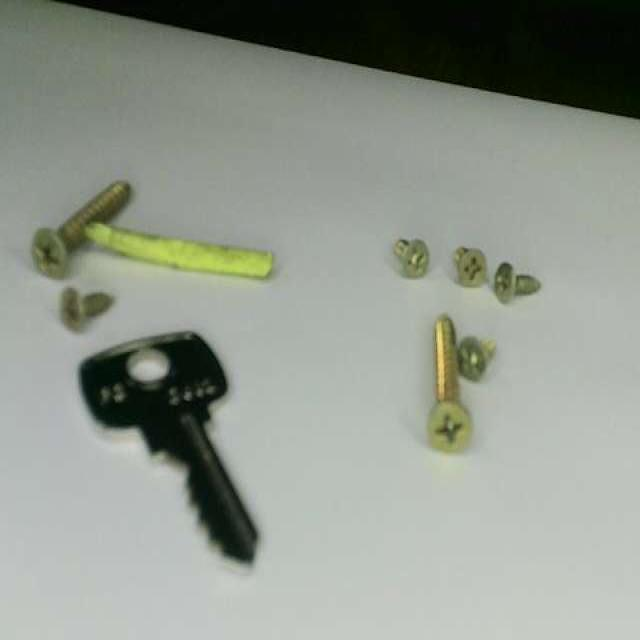Parafuso: (34, 183, 132, 275), (429, 319, 471, 450), (62, 286, 115, 329), (495, 261, 541, 303), (459, 337, 495, 381), (454, 251, 487, 289), (396, 237, 429, 273)
